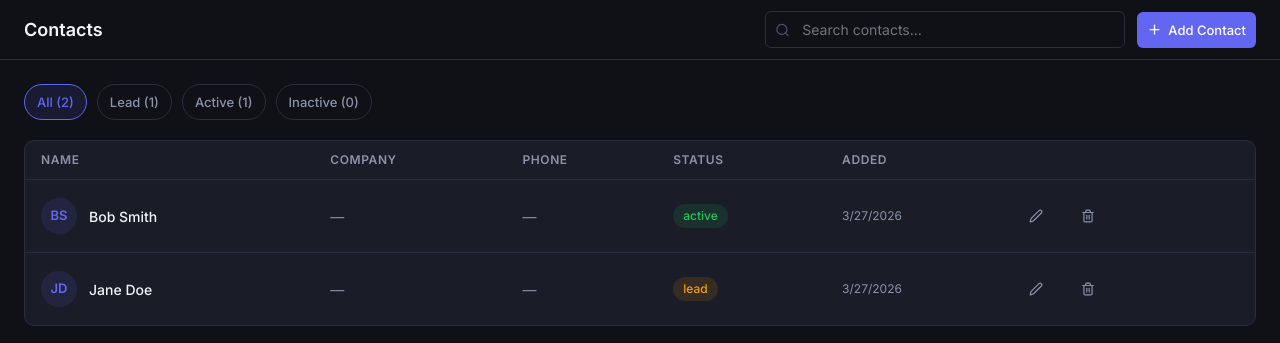
it: Contacts Page › filters contacts by status chip
Click the button with test id "filter-active".
click(224, 102)  # box [182,84,266,120]
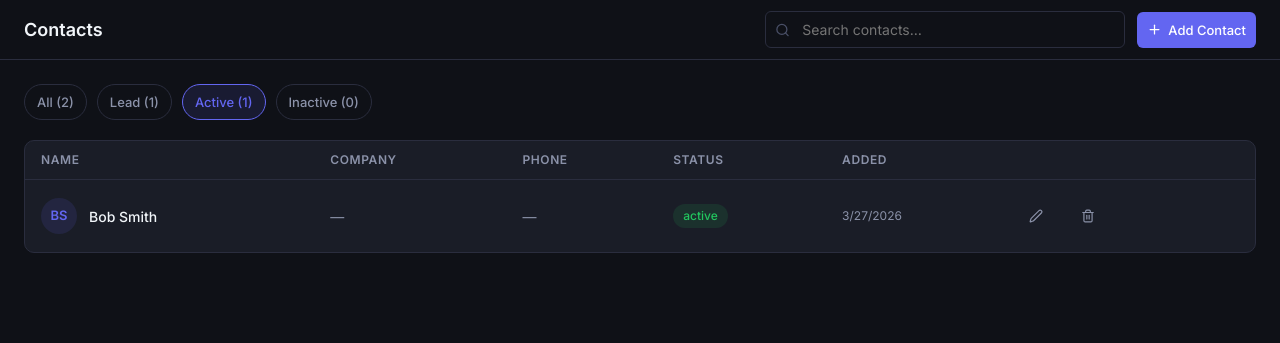
Expected: the text "Bob Smith" is shown, [89,206,157,226]
Expected: the number of rows with test id "contact-row" is 1, [25,180,1255,252]
